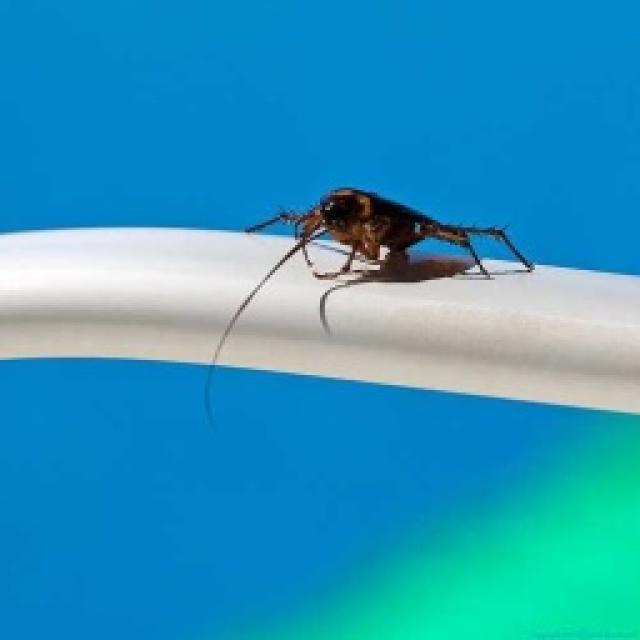cockroach: (199, 181, 539, 427)
